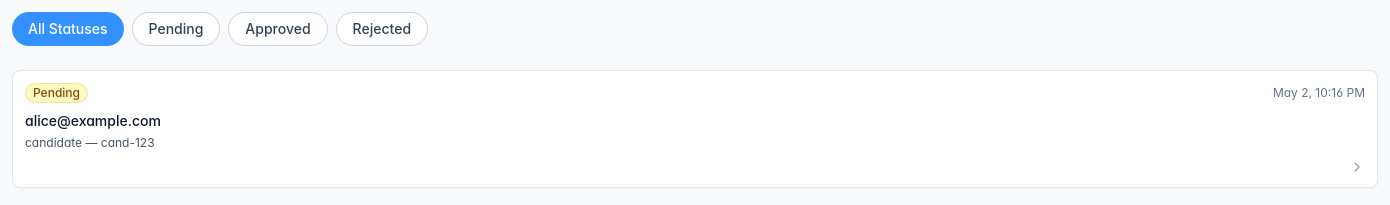
ApprovalCardList › shows empty state when no approvals match filter
# Filter to approved (but only pending exists)
Click the button "Approved" at (278, 29), box 228,12 -> 328,46
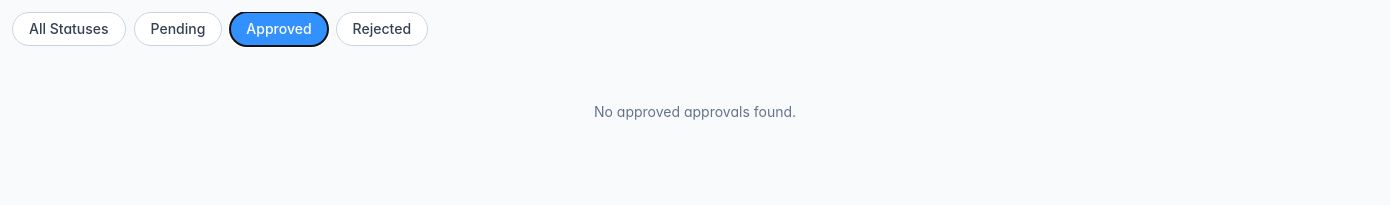
Check: the element with test id "approval-card-list-empty" is shown, box 594,103 -> 796,120
